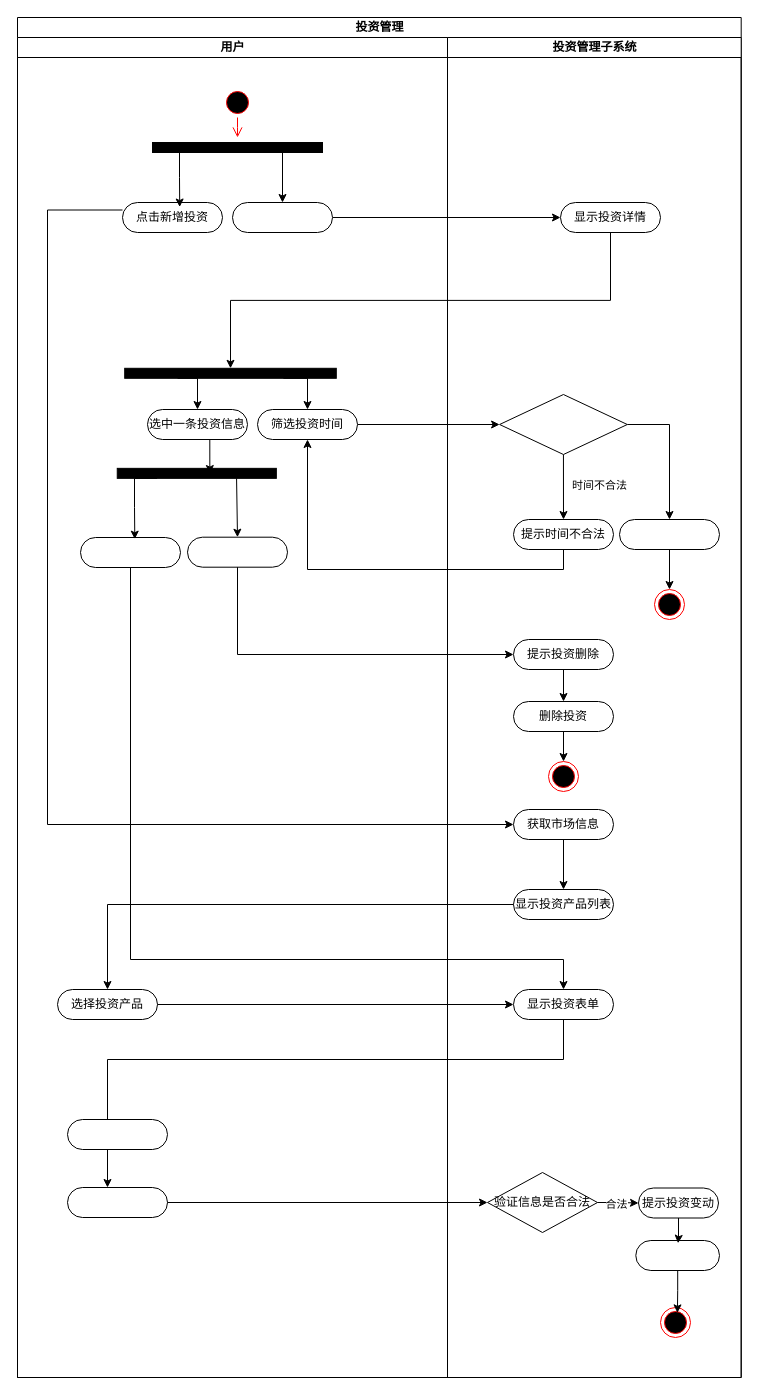
Some shapes in this 759 by 1395 pixel diagram are drawn without their labels. The centre of each missing label's shape, as x and y in pixels:
保存新信息: pixel 677 1255
填写投资表单: pixel 117 1134
显示投资信息: pixel 669 534
点击修改按钮: pixel 130 552
点击删除按钮: pixel 237 551
点击投资管理: pixel 282 217
点击提交表单: pixel 117 1202
验证投资时间是否合 法: pixel 563 424
